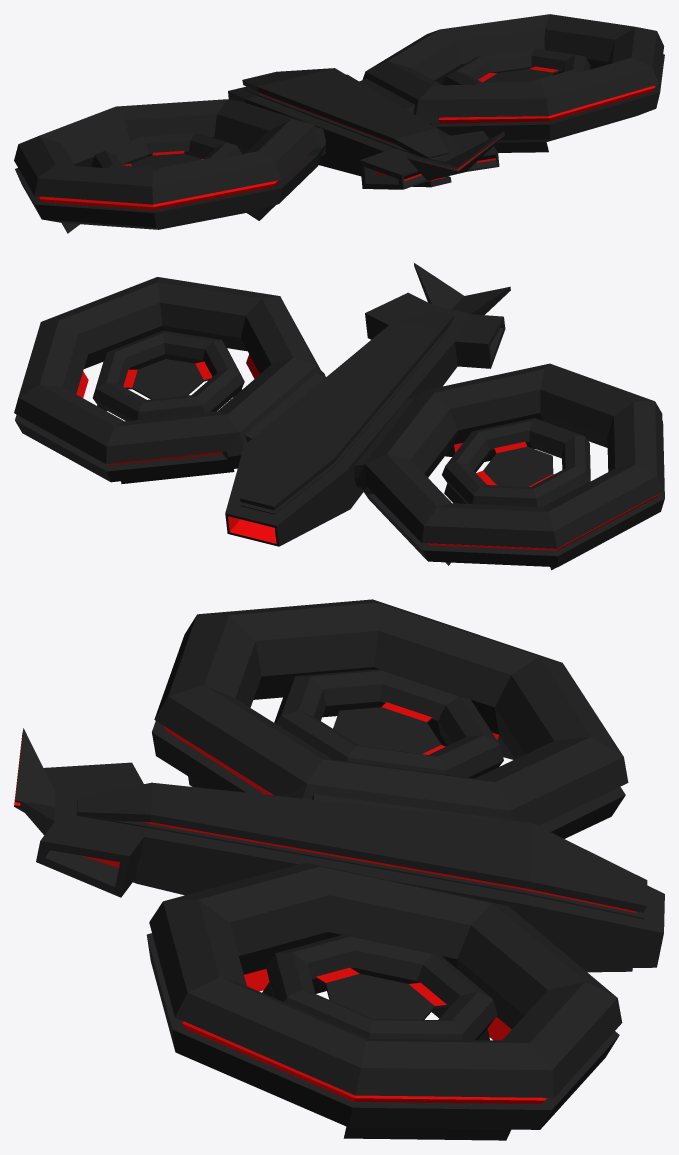
File: enemy_Drone.fbx
3 views of the same model, one above another, from view 1: azimuth 30°, elevation 25°; view 2: azimuth 150°, elevation 25°; view 3: azimuth 270°, elevation 25° (orthographic). The views are drawn at different scales.
Visible parts, largest first — view 1: Full; view 2: Full; view 3: Full.
Part boxes in pixels (left/top/right/bottom): Full: left=14, top=14, right=664, bottom=233; Full: left=14, top=263, right=664, bottom=570; Full: left=14, top=599, right=664, bottom=1140.
Size of the model in its own units: 1229 by 231 by 709.
